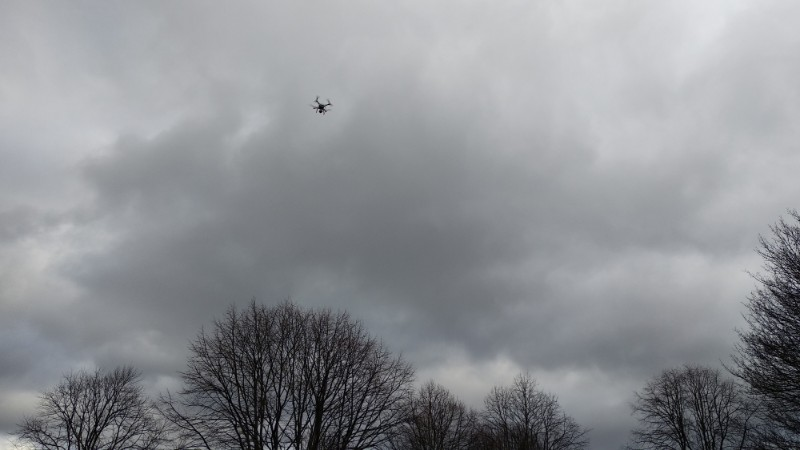drone: (311, 97, 333, 115)
